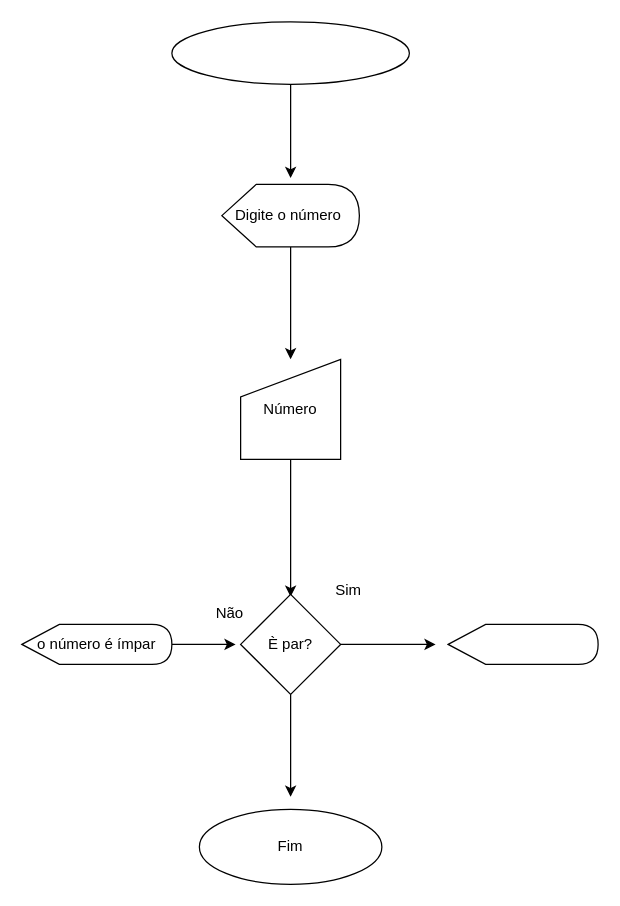
Some shapes in this 620 by 906 pixel diagram are drawn without their labels. The box of each missing label's shape, as (x1, y1, x2, y2) in pixels:
Início: (171, 21, 409, 84)
o número é par: (447, 623, 598, 664)
